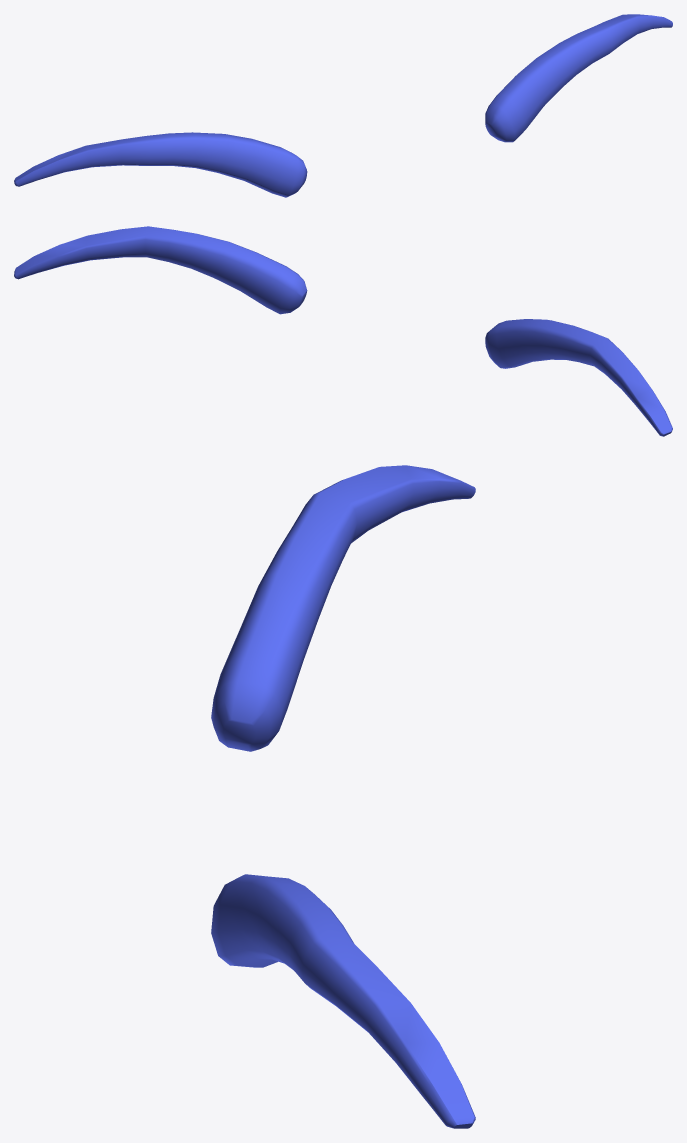
Rendered from Eyebrows_30_03.fbx.
3 renders of one model, top to bottom at view 1: azimuth 30°, elevation 25°; view 2: azimuth 150°, elevation 25°; view 3: azimuth 270°, elevation 25°, orthographic. The views are drawn at different scales.
Visible parts, largest first — view 1: Eyebrows_30_03; view 2: Eyebrows_30_03; view 3: Eyebrows_30_03.
Part boxes in pixels (x1=…): Eyebrows_30_03: x1=14, y1=14, x2=672, y2=197; Eyebrows_30_03: x1=14, y1=226, x2=672, y2=436; Eyebrows_30_03: x1=211, y1=465, x2=475, y2=1128.
Size of the model in its own units: 19.88 by 2.07 by 3.47.
